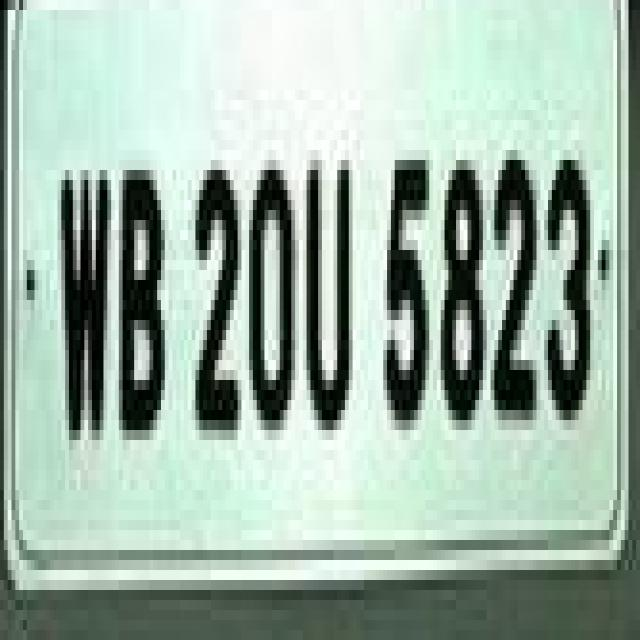license_plate: (0, 0, 609, 590)
